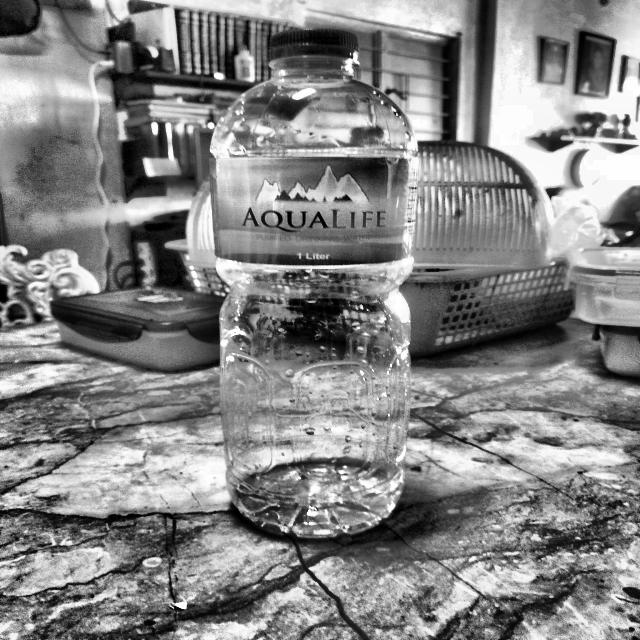Plastic-Bottle: (210, 24, 418, 542)
